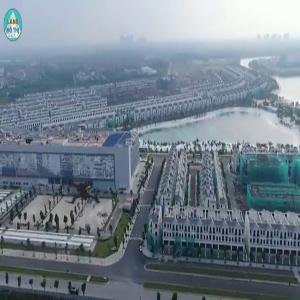drone: (29, 142, 137, 250)
